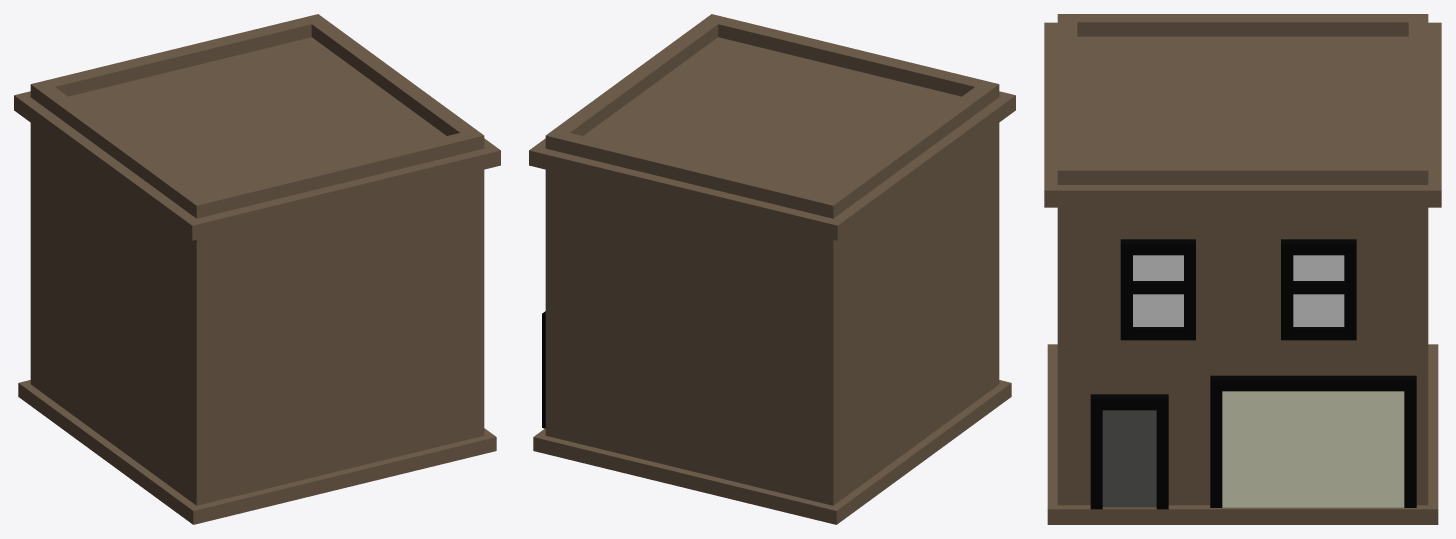
Rendered from built2.glb.
3 renders of one model, left to right at view 1: azimuth 30°, elevation 25°; view 2: azimuth 150°, elevation 25°; view 3: azimuth 270°, elevation 25°, orthographic. The views are drawn at different scales.
Visible parts, largest first — view 1: Cube; view 2: Cube; view 3: Cube.
Part boxes in pixels (left/top/right/bottom): Cube: left=14, top=14, right=500, bottom=524; Cube: left=529, top=14, right=1015, bottom=524; Cube: left=1044, top=14, right=1441, bottom=524.
Bounding box in the file's own units: 2.15 × 2.09 × 2.15.
